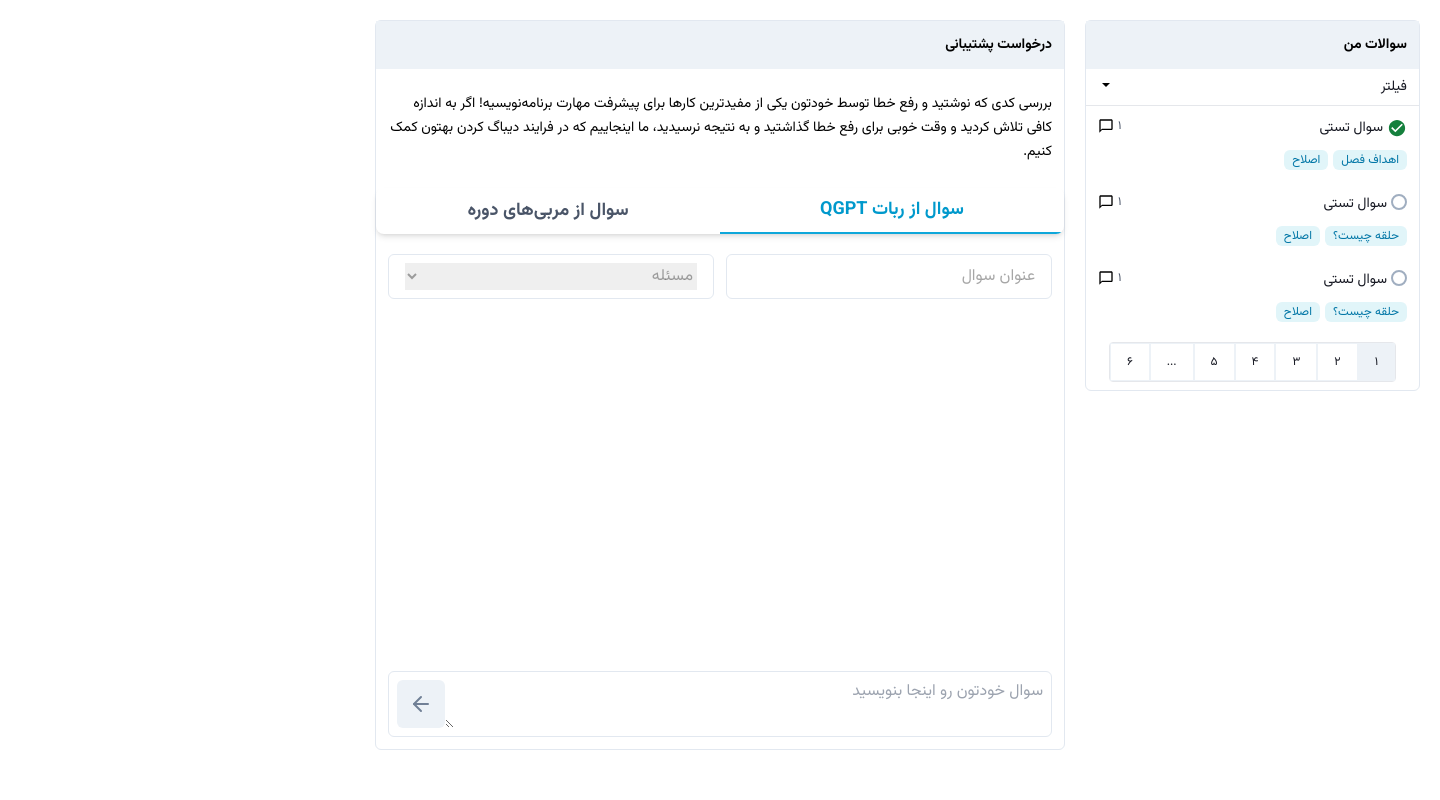
it: Ask to mentor › question type and question text is required
Click the link "سوال از مربی‌های دوره": (548, 211) [467,197,628,225]
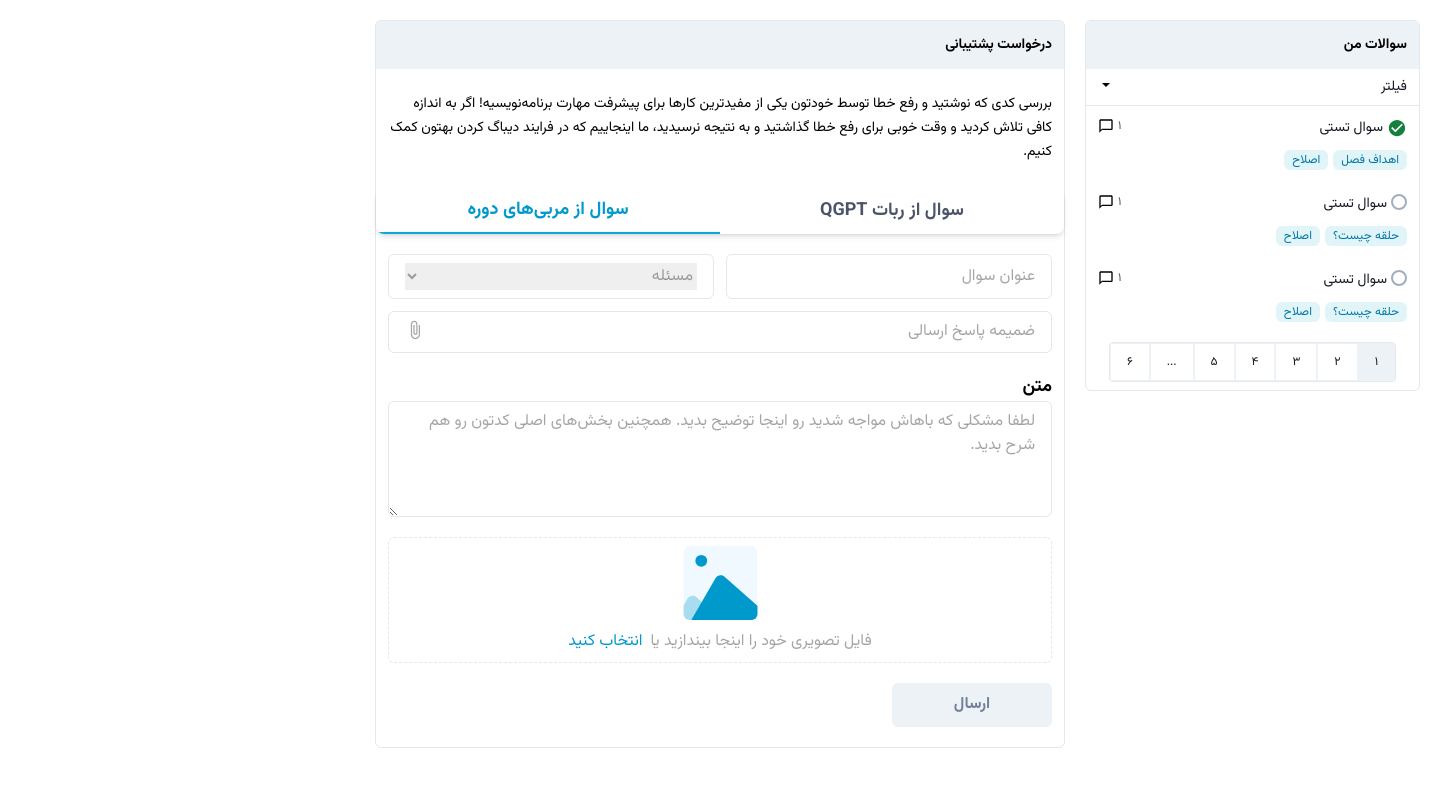
Click the button "ارسال": (972, 705) [892,683,1052,727]
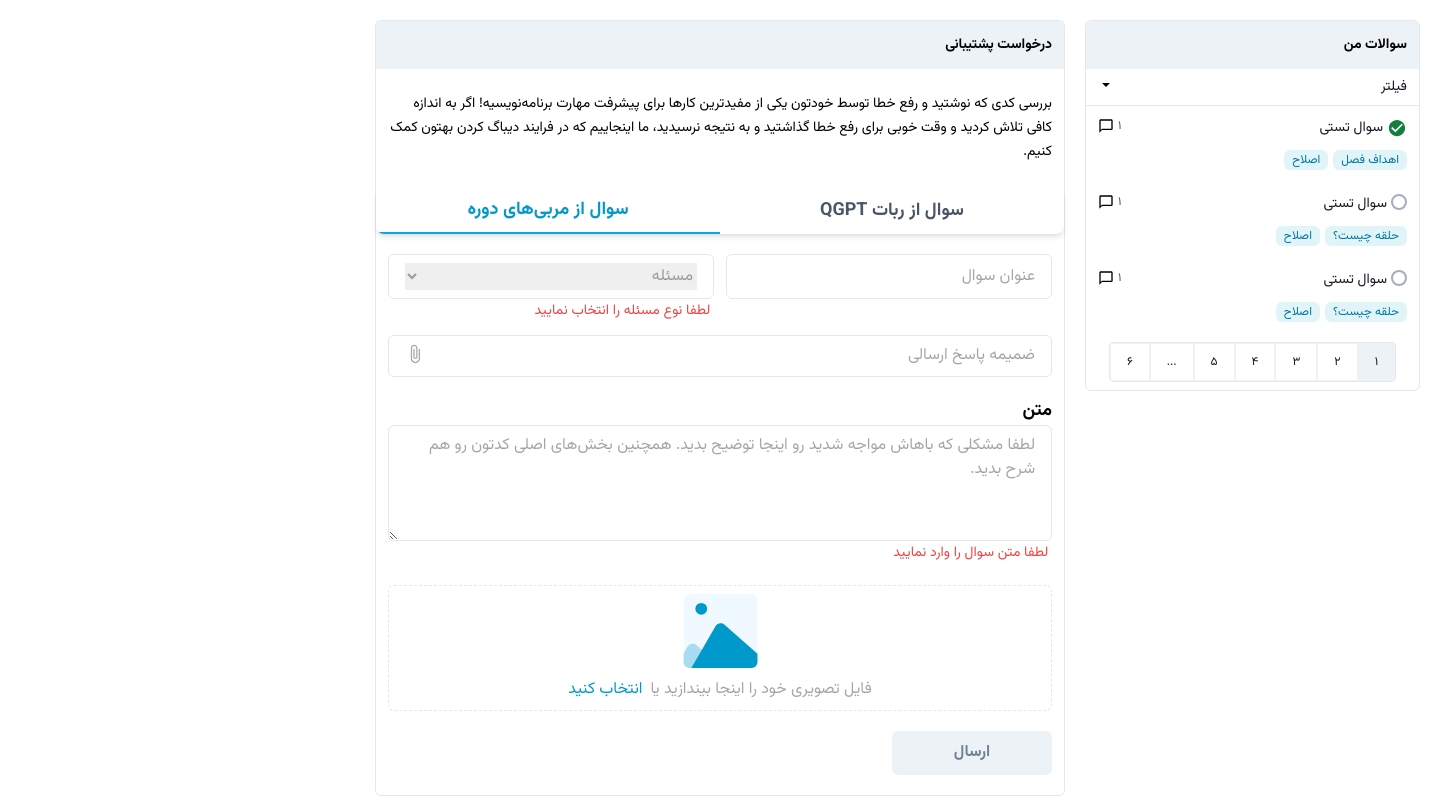
expect the text "لطفا نوع مسئله را انتخاب نمایید" is shown: met, box [535,300,714,322]
expect the text "لطفا متن سوال را وارد نمایید" is shown: met, box [893,542,1052,564]
